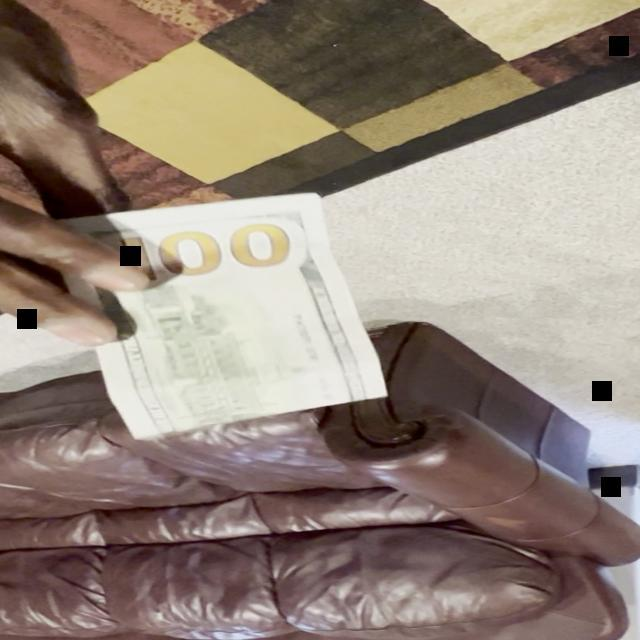hundred: (56, 192, 389, 438)
